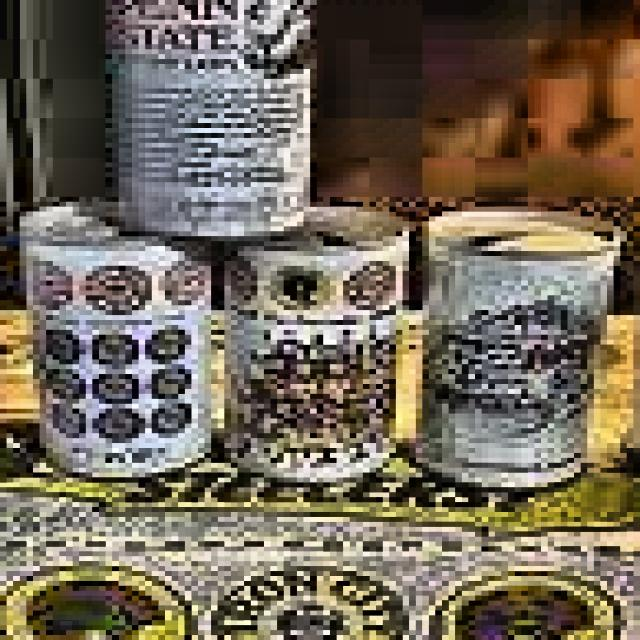metal: (406, 197, 630, 497), (221, 187, 419, 487), (23, 192, 221, 482), (106, 0, 323, 246)
